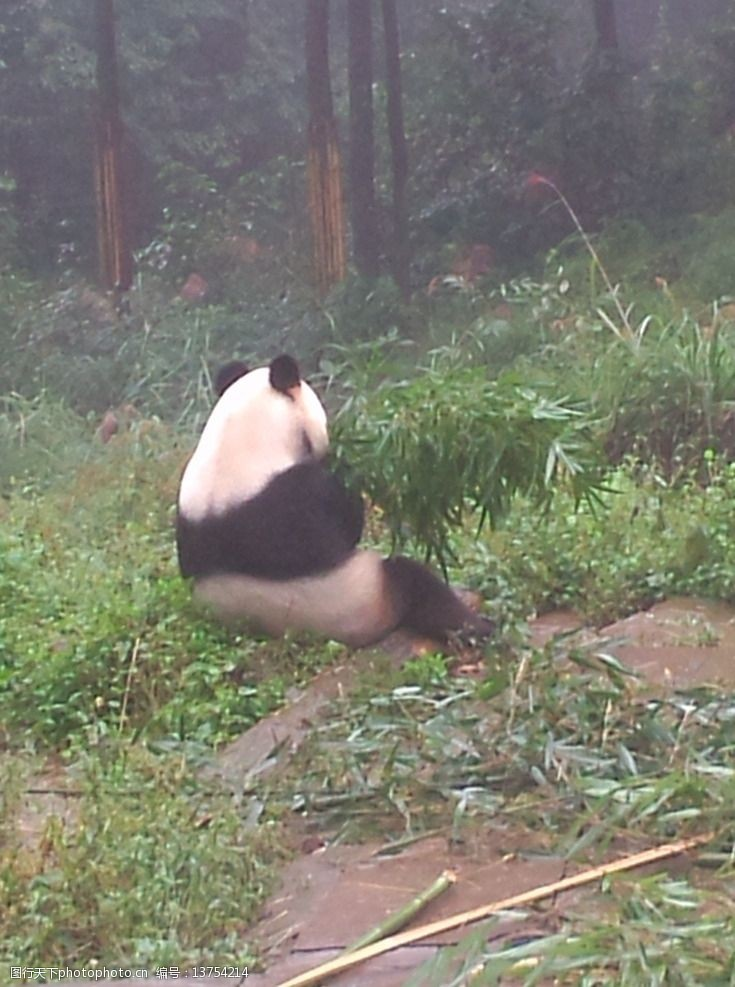panda: (170, 354, 498, 689)
